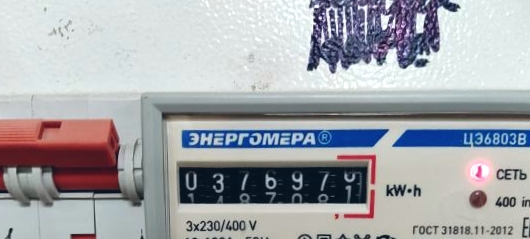0: (183, 168, 198, 190)
1: (342, 182, 354, 203)
3: (210, 170, 226, 193)
6: (262, 166, 278, 189)
7: (235, 167, 251, 190), (316, 168, 331, 191)
9: (288, 167, 304, 190)
screen: (167, 148, 379, 224)
